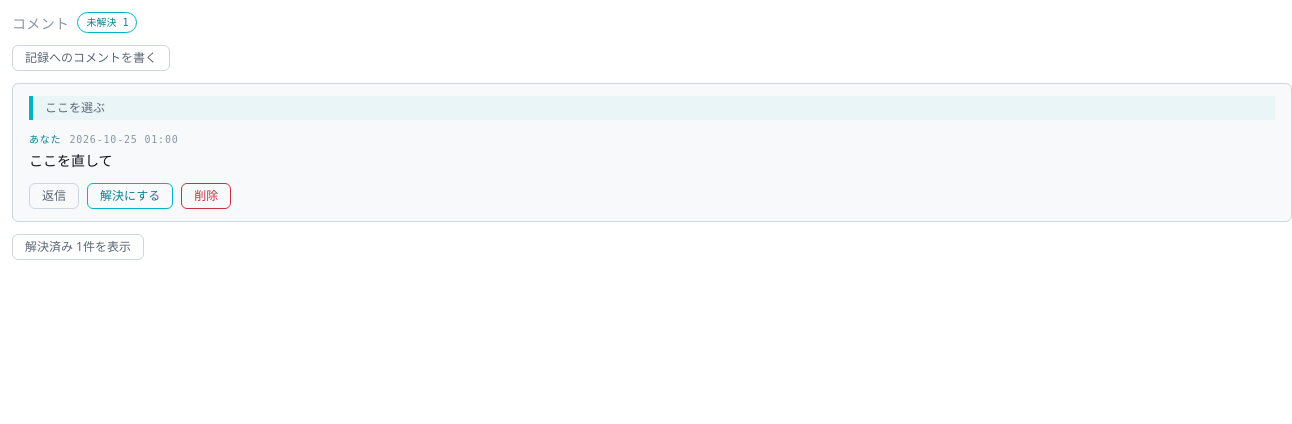
Test: CommentPanel › 未解決を上に、解決済みは畳んで「解決済み N件を表示」で開く
The image size is (1292, 424).
Check: the text "ここを直して" is shown, box [29,151,113,170]
Check: the text "済んだ話" is not shown
Click the button "解決済み 1件を表示".
click(78, 247)  # box [12,234,144,260]
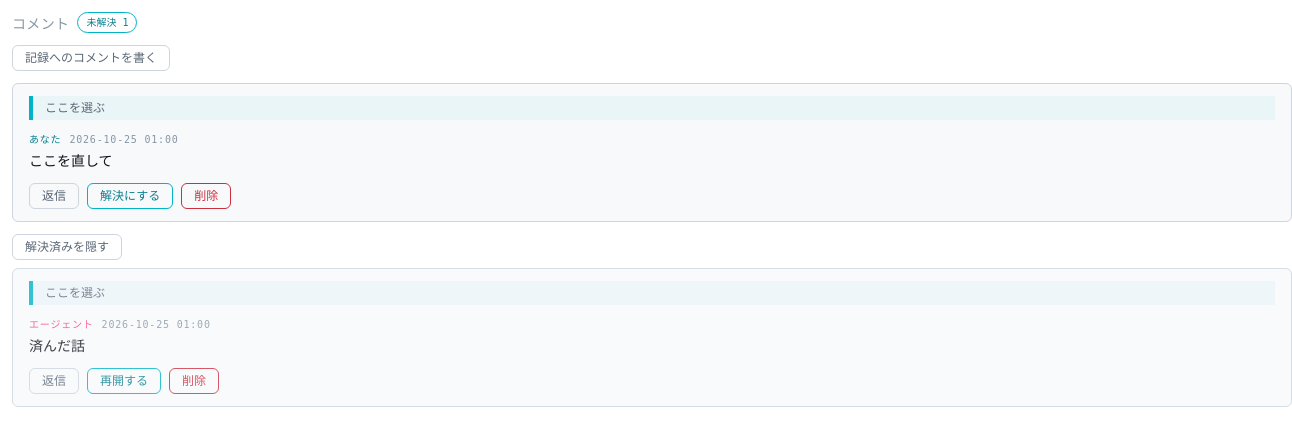
Check: the text "ここを直して" is shown, box [29,151,113,170]
Check: the text "済んだ話" is shown, box [29,336,85,355]
